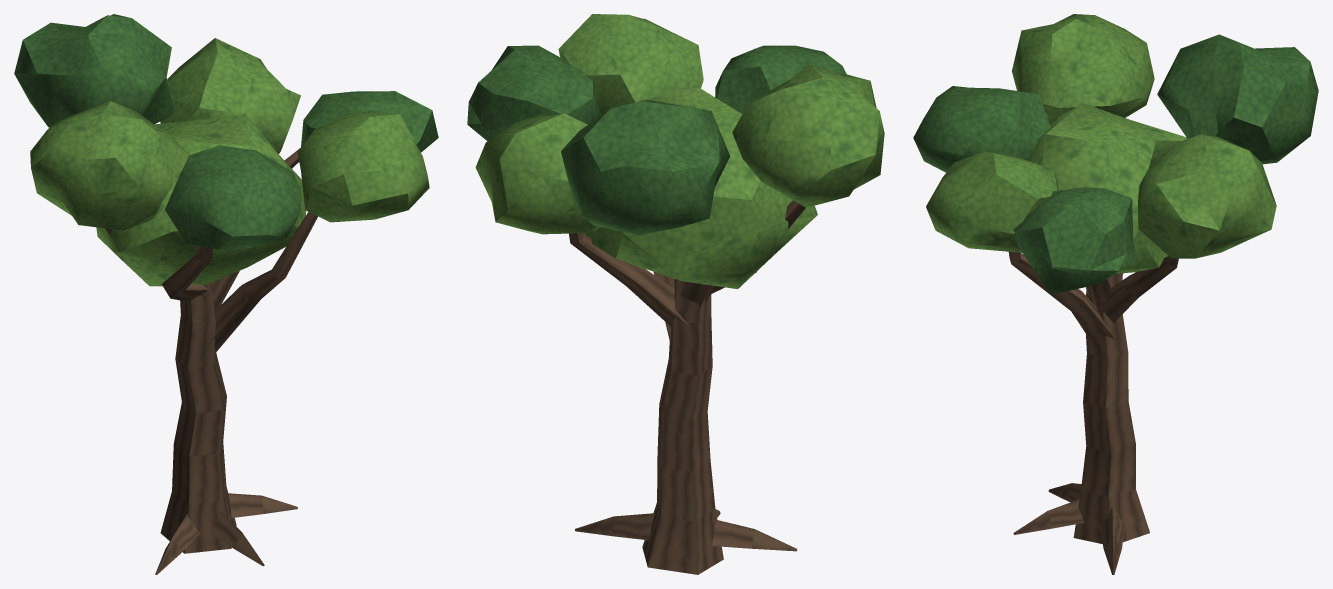
The model's file is SM_Tree_Oak_Large01_LOD1.fbx.
The picture shows the model from 3 angles, left to right: view 1: azimuth 30°, elevation 25°; view 2: azimuth 150°, elevation 25°; view 3: azimuth 270°, elevation 25°; orthographic projection. The views are drawn at different scales.
Parts seen in each view (by area): view 1: SM_Tree_Oak_Large01_LOD1; view 2: SM_Tree_Oak_Large01_LOD1; view 3: SM_Tree_Oak_Large01_LOD1.
Boxes of the visible parts, left/top/right/bottom form: SM_Tree_Oak_Large01_LOD1: left=14, top=14, right=438, bottom=574; SM_Tree_Oak_Large01_LOD1: left=467, top=14, right=884, bottom=574; SM_Tree_Oak_Large01_LOD1: left=913, top=14, right=1318, bottom=574.
Bounding box in the file's own units: 20.35 × 24.41 × 18.84.
1 material, 1 textured.
